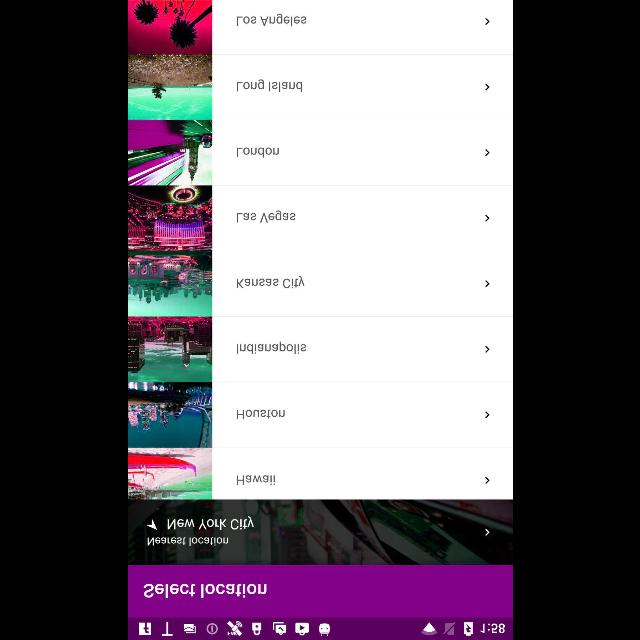icon: (146, 520, 156, 530), (485, 18, 489, 26), (485, 214, 489, 222), (485, 280, 489, 288), (485, 476, 489, 484), (484, 528, 488, 536), (485, 84, 489, 90), (485, 150, 489, 156), (485, 346, 489, 352), (485, 412, 489, 418)
image: (127, 54, 211, 120), (127, 250, 211, 316), (127, 316, 211, 382), (127, 382, 211, 448), (127, 121, 211, 185), (128, 186, 212, 250), (127, 0, 211, 54), (128, 448, 212, 498)
text: (142, 583, 266, 599), (166, 516, 254, 530), (236, 14, 306, 26), (236, 342, 306, 354), (236, 276, 304, 288), (236, 80, 302, 92), (236, 210, 294, 222), (146, 538, 228, 546), (236, 409, 284, 419), (236, 148, 278, 158), (236, 475, 274, 485)
toolbar: (128, 566, 512, 618)
uppertaskbar: (128, 617, 512, 639)
